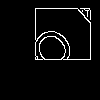O: (26, 23, 85, 84)
